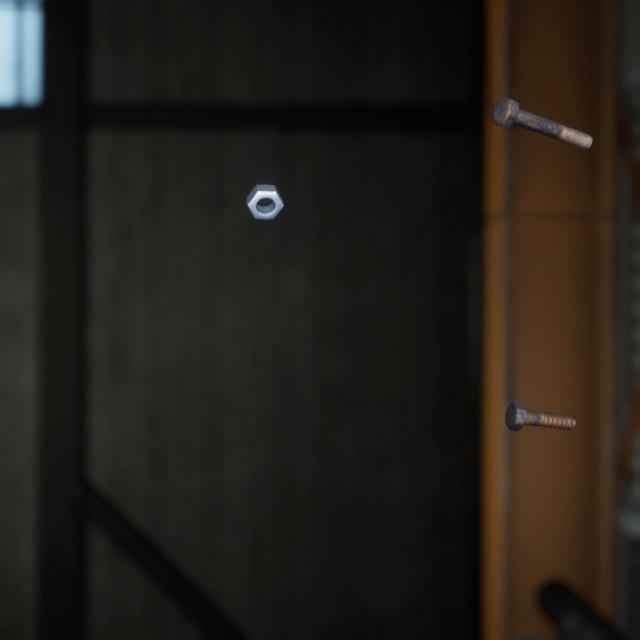bolt: (488, 79, 597, 141), (500, 376, 581, 415)
nut: (241, 164, 288, 208)
